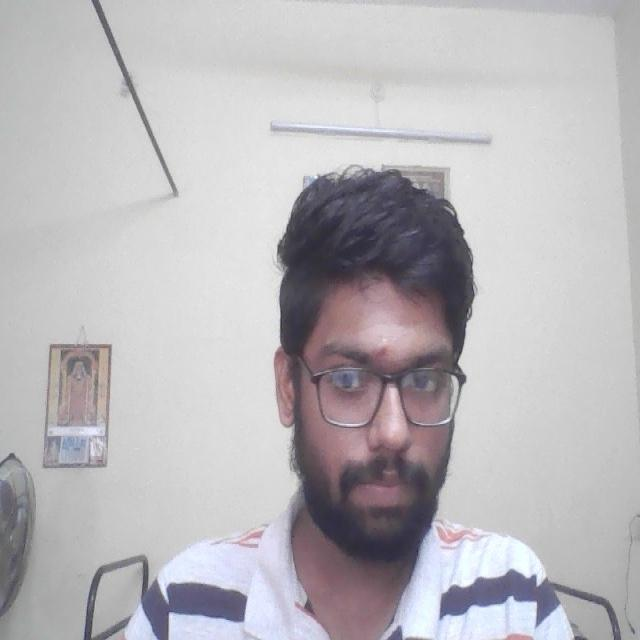Focused: (290, 300, 470, 528)
